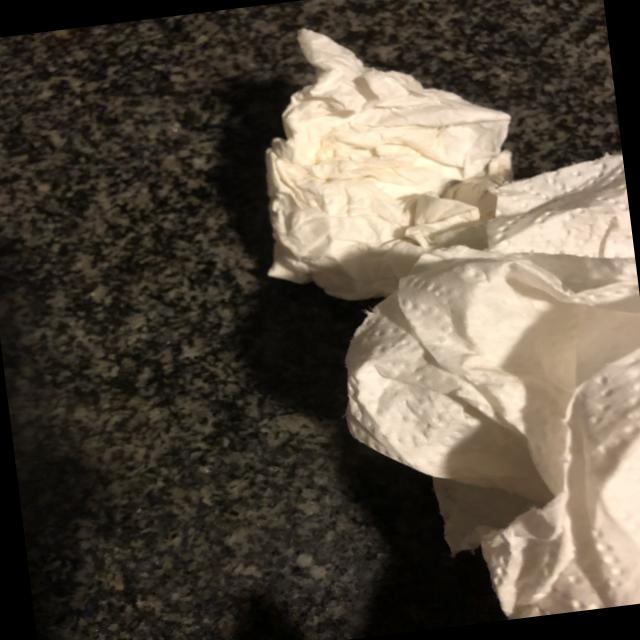organic waste: (305, 150, 640, 637), (233, 0, 542, 314)
